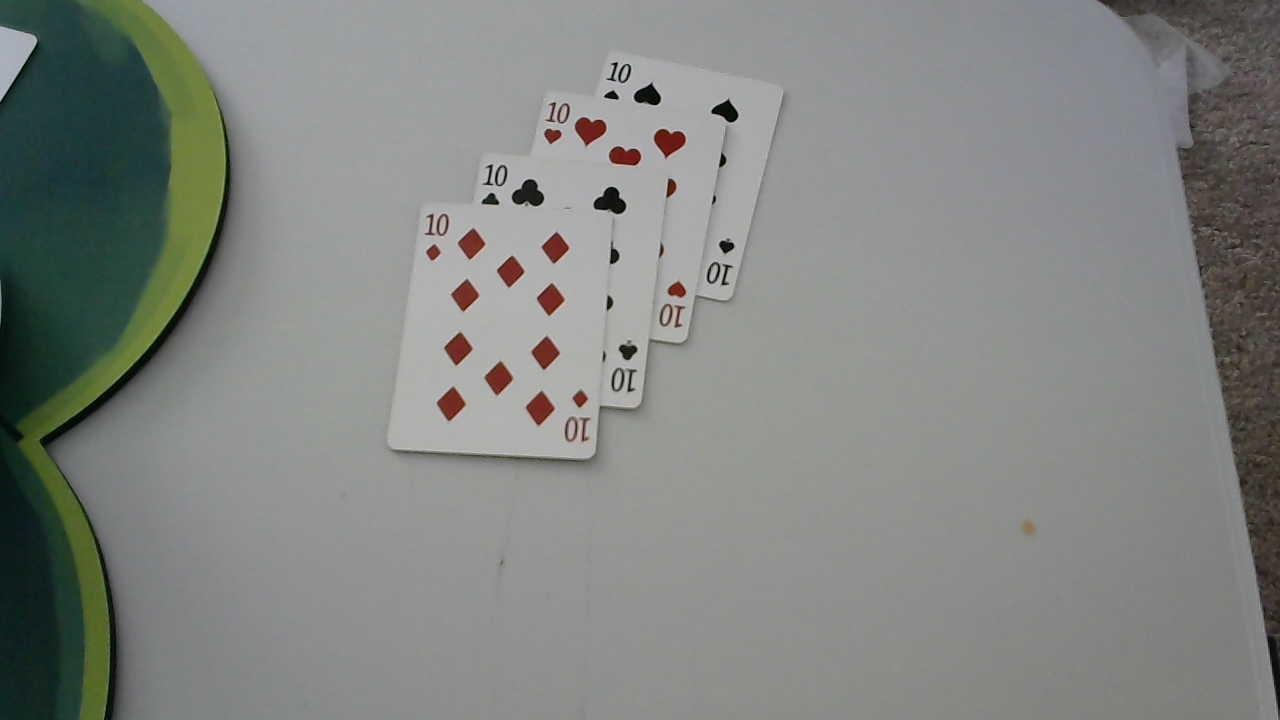10C: (609, 336, 639, 394)
10D: (559, 389, 593, 444), (422, 211, 452, 264)
10H: (653, 279, 691, 333), (540, 98, 572, 150)
10S: (704, 236, 734, 288)
